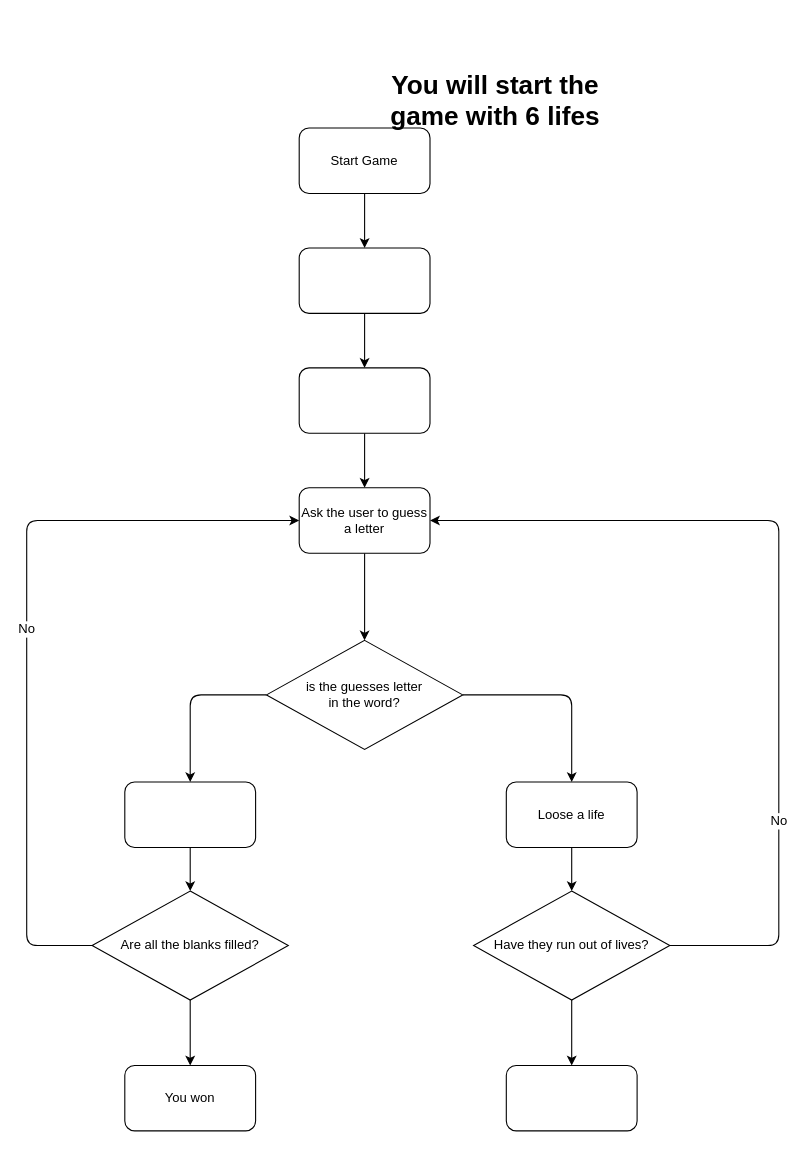
The diagram is 807 pixels wide and 1150 high, and some of its shapes have lost their labels. Each missing label, with the centre of its shape:
"generate as many blanks as letters in word" belongs at pixel 364 400.
"random word" belongs at pixel 364 280.
"replace the blank with the letter" belongs at pixel 190 814.
"You loose" belongs at pixel 571 1097.
